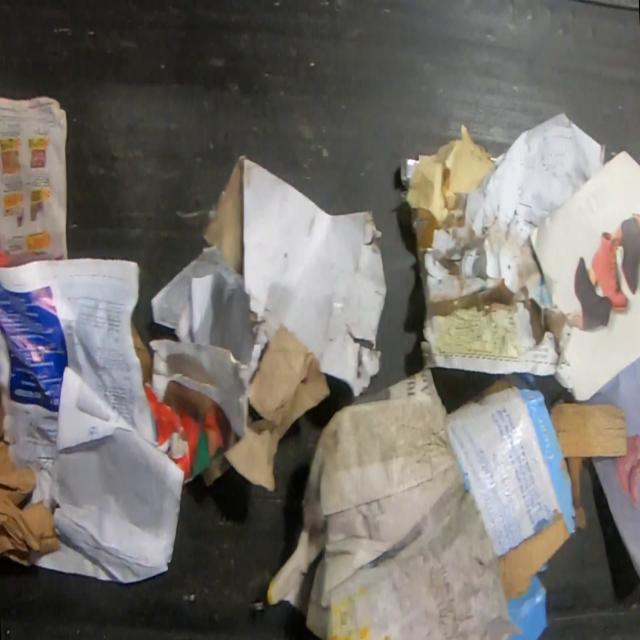cardboard: (199, 153, 389, 493), (444, 372, 586, 639), (132, 320, 260, 487), (0, 390, 62, 556), (547, 397, 630, 458)
metal: (398, 157, 420, 188)
